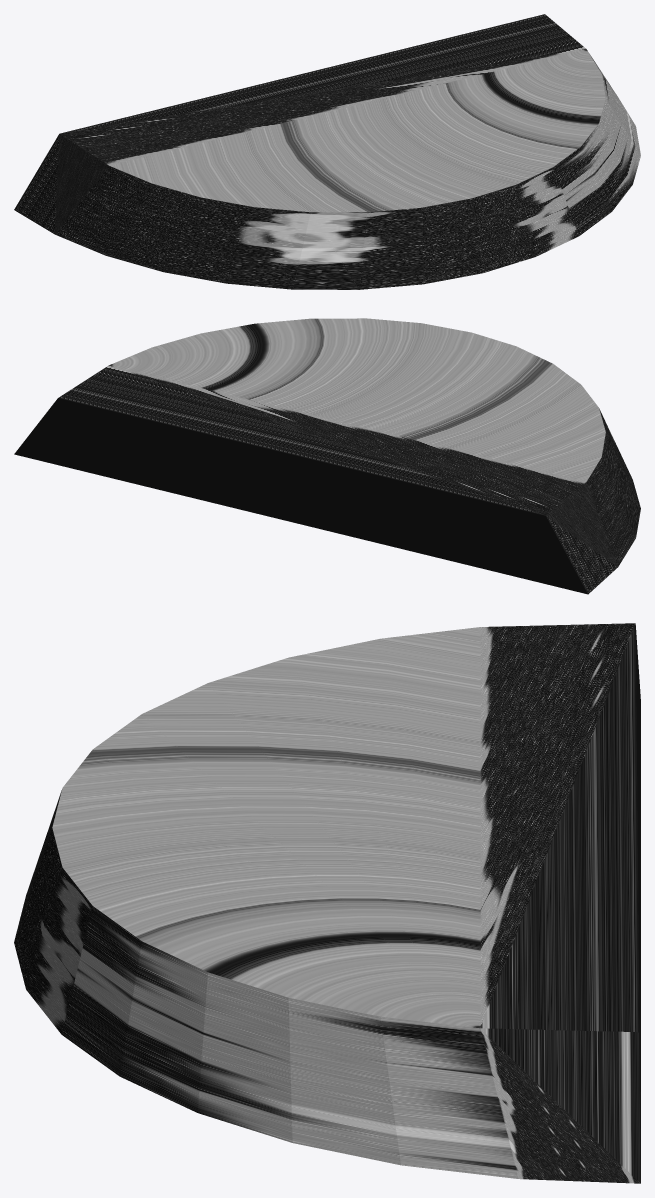
Rendered from simpleRoadEnd.fbx.
3 renders of one model, top to bottom at view 1: azimuth 30°, elevation 25°; view 2: azimuth 150°, elevation 25°; view 3: azimuth 270°, elevation 25°, orthographic. The views are drawn at different scales.
Parts seen in each view (by area): view 1: Цилиндр; view 2: Цилиндр; view 3: Цилиндр.
Boxes of the visible parts, x1,y1,x2,y2 form: Цилиндр: (14,14,640,289); Цилиндр: (14,318,640,594); Цилиндр: (14,623,640,1183).
Bounding box in the file's own units: 185 × 20.54 × 102.
Materials: 1 (1 with a texture image).
